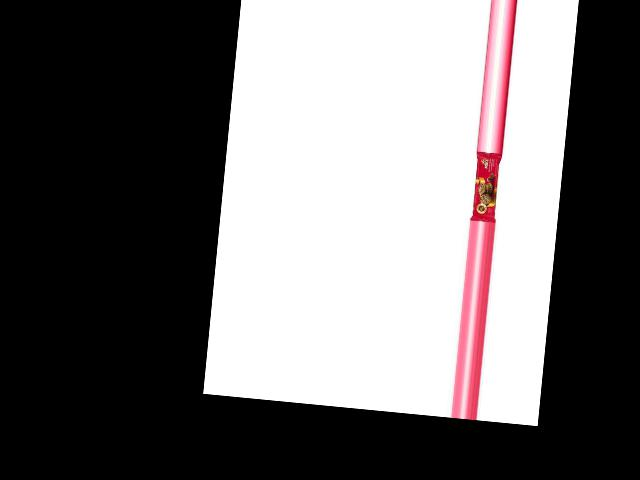chocolate: (471, 150, 504, 221)
